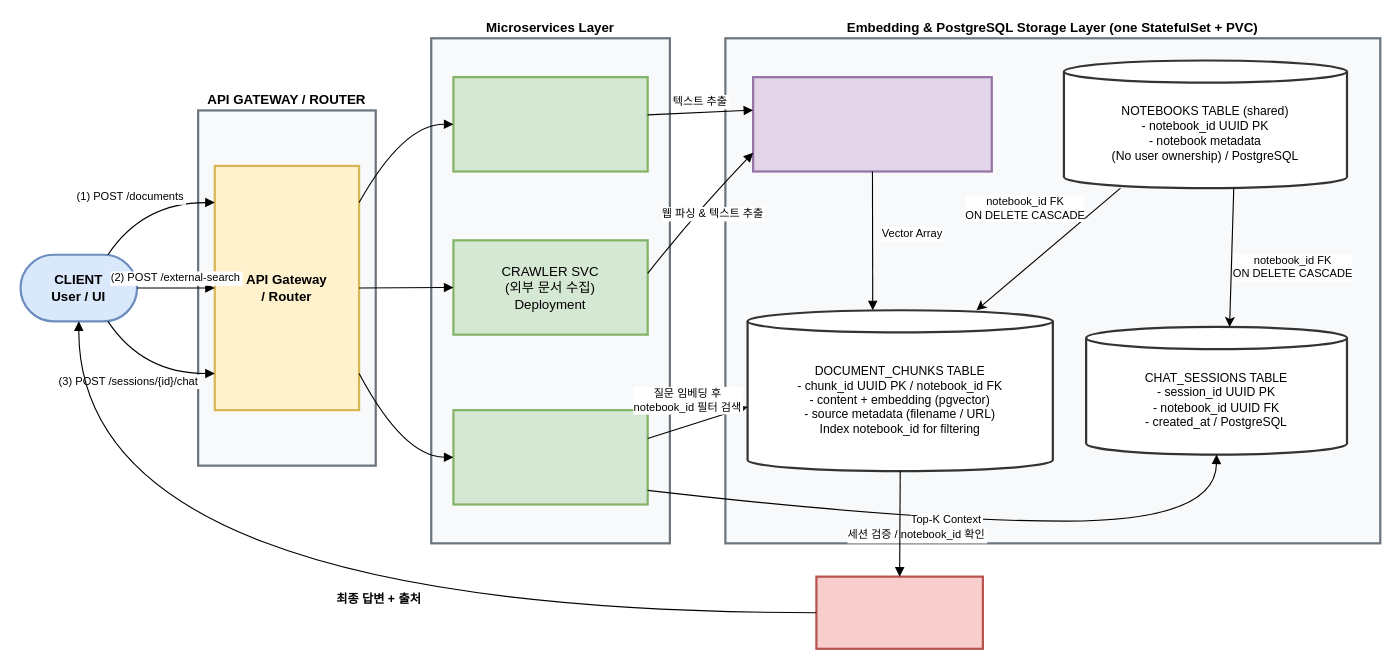
This 1400x668 diagram has some shape labels left out. The shapes that lost their labels are listed below. From the top down, each one's centre as x and y in pixels, then its label:
At pixel 550 123: "INGESTION SVC (내부 문서 파싱) Deployment".
At pixel 871 123: "EMBEDDING PIPELINE (Gemini / Text Embedding)".
At pixel 550 456: "CHAT / RAG SVC (세션 & 답변 생성) Deployment".
At pixel 899 612: "GEMINI API (LLM Model)".
